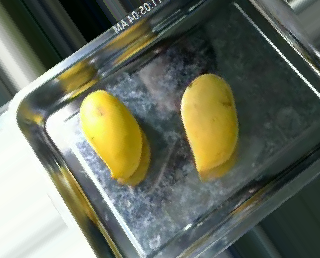Mango: (75, 88, 141, 182), (181, 72, 236, 172)
